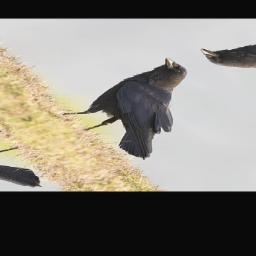Crow: (33, 55, 256, 165)
